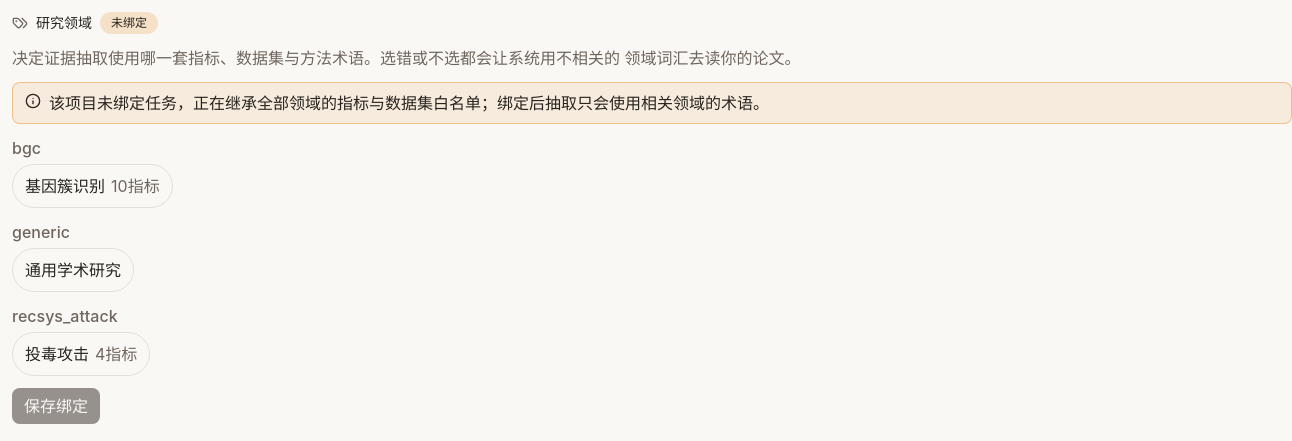
Scenario: 研究领域绑定 › 保存按钮在没有改动时不可点，改动后才可用
The width and height of the screenshot is (1292, 441).
Expected: the button "保存绑定" is disabled, [12,388,100,424]
Click the checkbox labelled "基因簇识别 10指标".
click(92, 186)  # box [12,164,173,208]
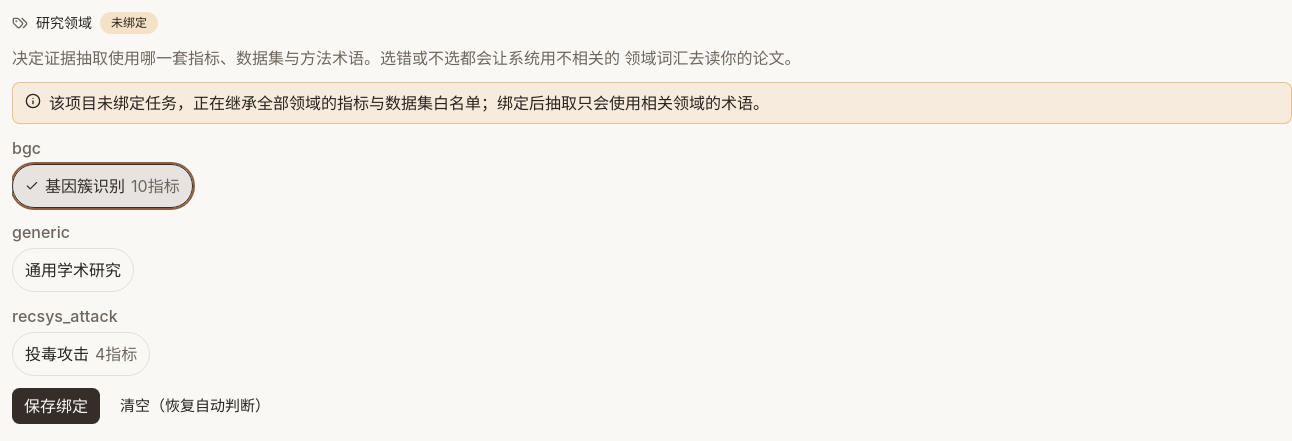
Result: the button "保存绑定" is enabled at [12,388,100,424]
